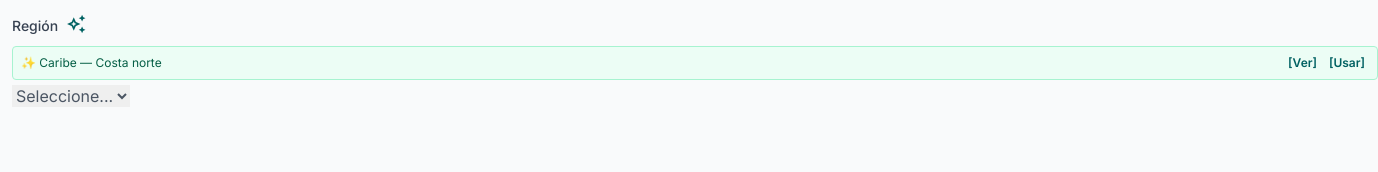
Test case: AIAssistedField › aplica solo sugerencias que coinciden con un value
What coordinates should you click on to do the following:
click the button "[Usar]"
I would click on:
 (1347, 63)
Its box is [1325,55,1369,71].
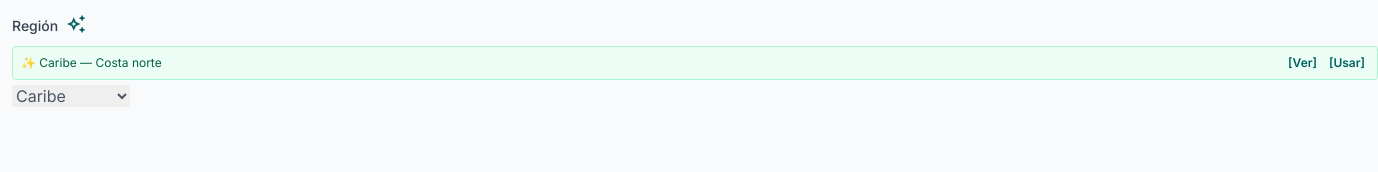
Result: the dropdown named "sel" shows "Caribe" at [12,85,130,107]
